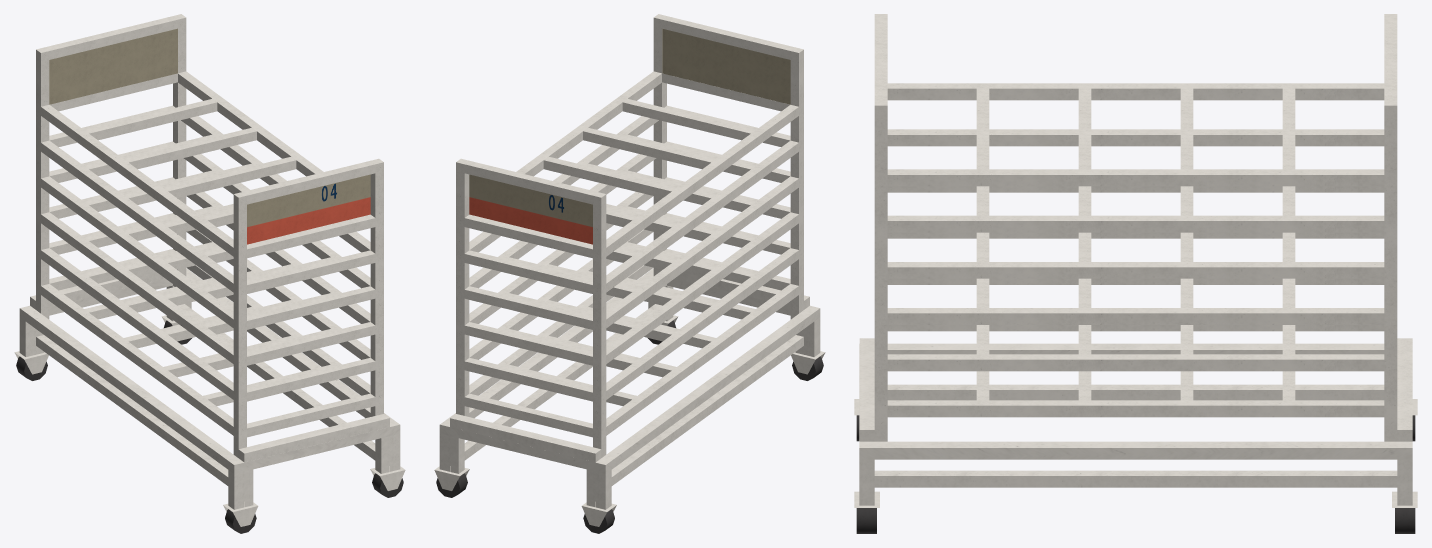
The model's file is houkao1.FBX.
3 renders of one model, left to right at view 1: azimuth 30°, elevation 25°; view 2: azimuth 150°, elevation 25°; view 3: azimuth 270°, elevation 25°, orthographic. The views are drawn at different scales.
Parts seen in each view (by area): view 1: YF_Model_gujia2; view 2: YF_Model_gujia2; view 3: YF_Model_gujia2.
Boxes of the visible parts, x1,y1,x2,y2 form: YF_Model_gujia2: (14,14,405,533); YF_Model_gujia2: (434,14,825,533); YF_Model_gujia2: (854,14,1417,533).
Size of the model in its own units: 101 by 184 by 221.
